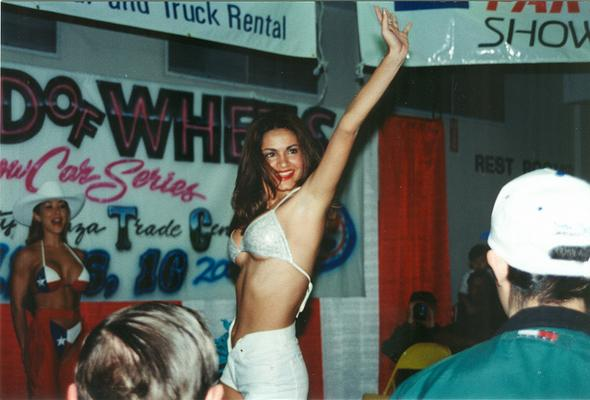person: (204, 5, 415, 400)
